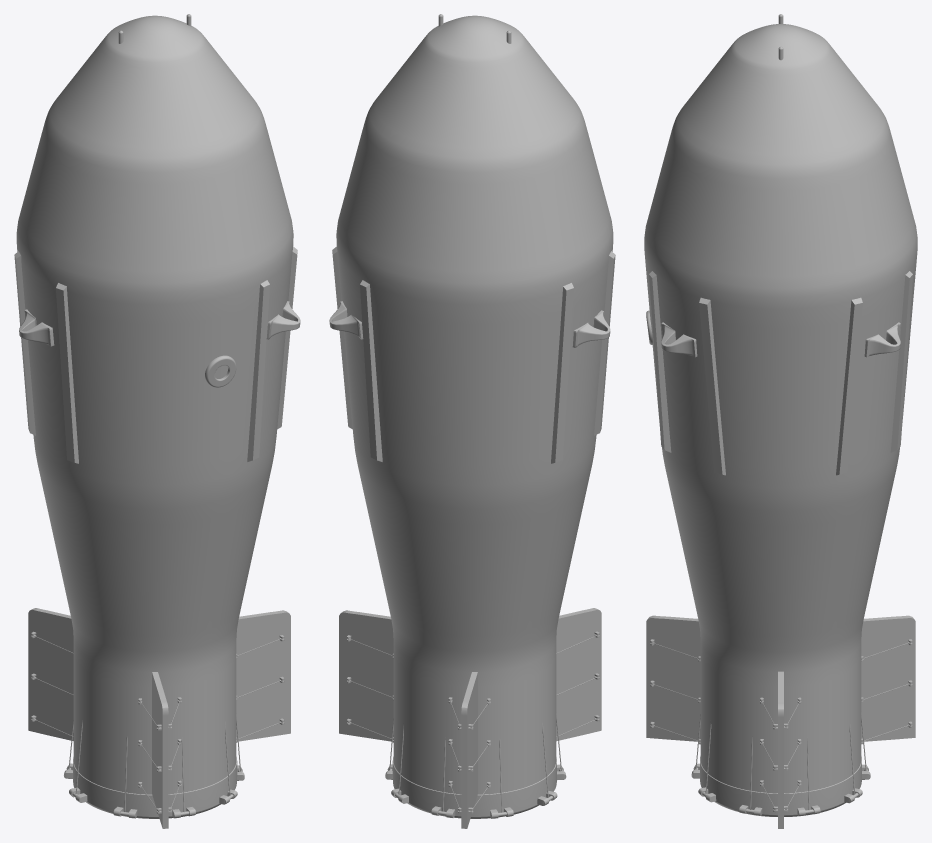
File: tsar_bomba.glb
The picture shows the model from 3 angles, left to right: view 1: azimuth 30°, elevation 25°; view 2: azimuth 150°, elevation 25°; view 3: azimuth 270°, elevation 25°; orthographic projection.
Visible parts, largest first — view 1: defaultMaterial (×6); view 2: defaultMaterial (×5); view 3: defaultMaterial (×6).
Part boxes in pixels (x1,y1,x2,y2): defaultMaterial (×6): [14, 14, 300, 828]; defaultMaterial (×5): [329, 14, 615, 828]; defaultMaterial (×6): [644, 14, 917, 828].
Bounding box in the file's own units: 0.736 × 2 × 0.6571.
7 materials, 7 textured.
